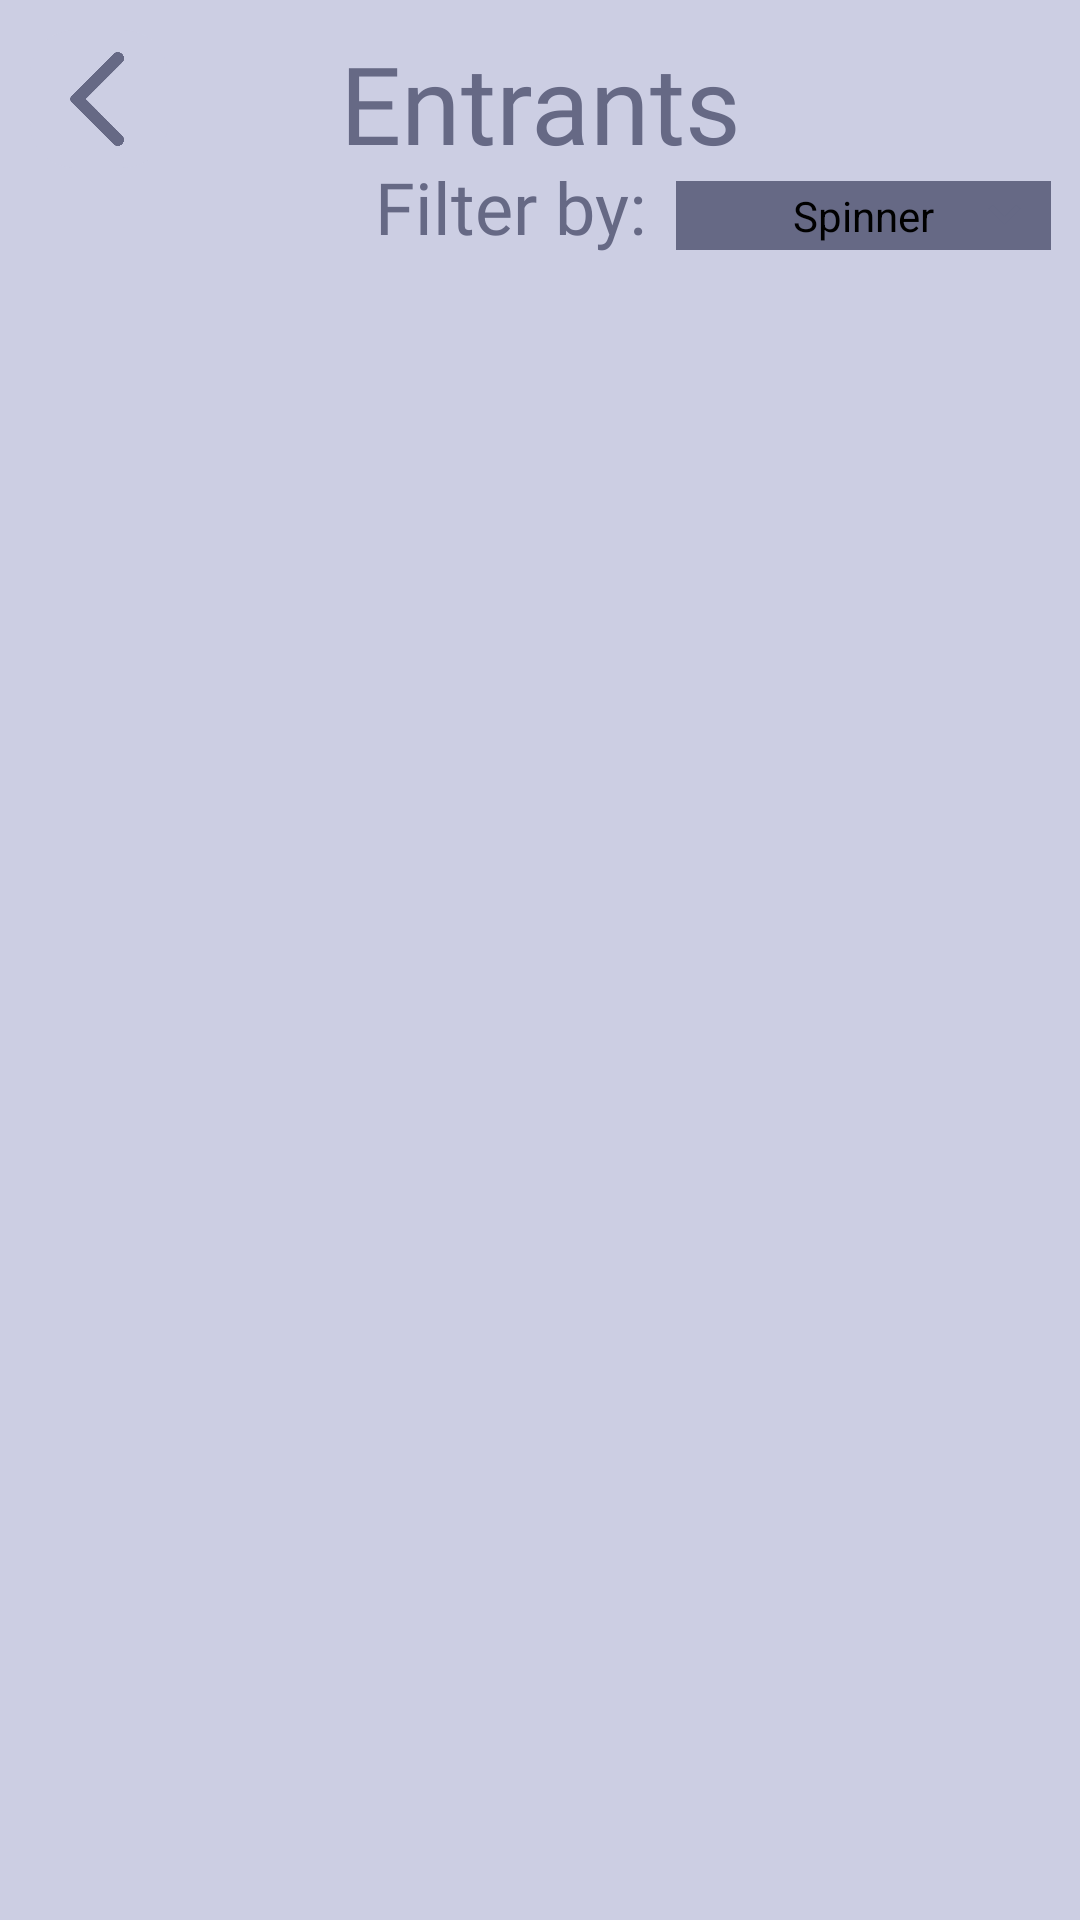

Where to tap for icons on this 1080x1920 app screen, as [x,y]:
back arrow: [97,99]
